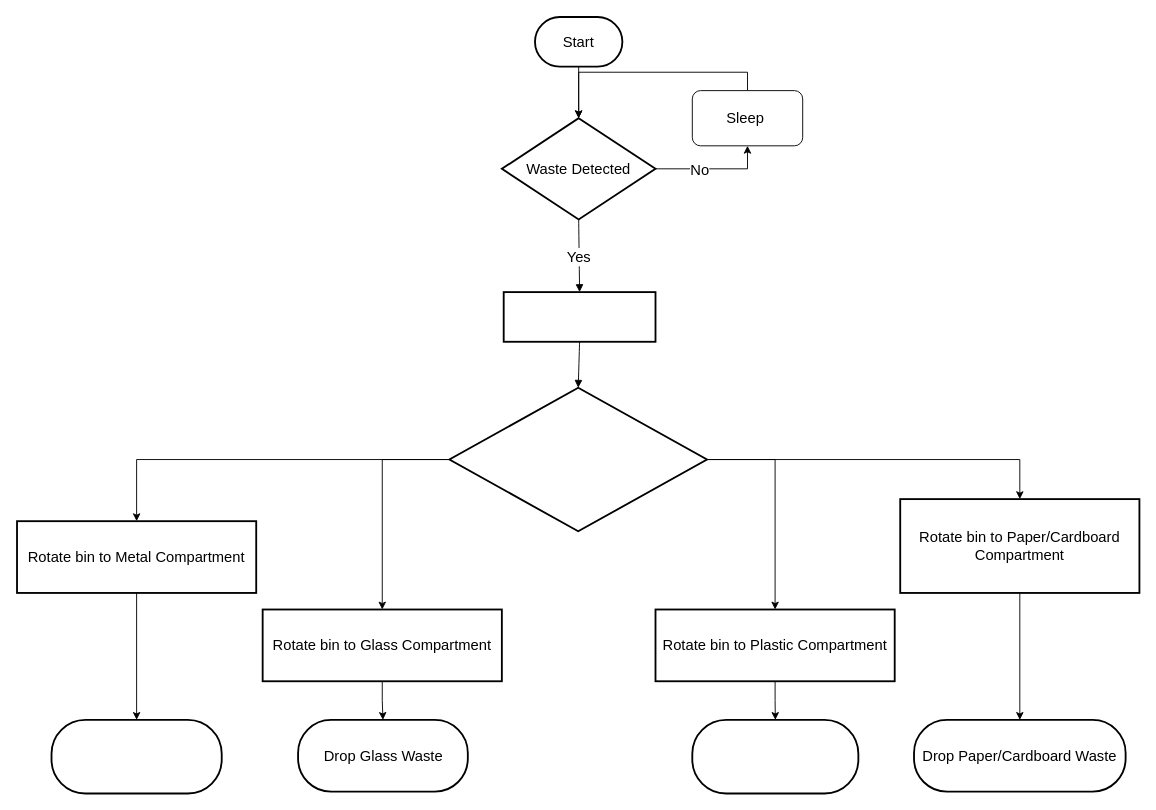
Image size: 1156x810. Some labels were removed from this diagram. The shapes that lost their labels are listed below. From the top down, each one's box as (x1, y1, x2, y2) in pixels, then its label:
(502, 291, 656, 342): Capture Image
(448, 386, 707, 532): Classify Waste
(50, 719, 222, 794): Drop Metal Waste
(691, 719, 859, 794): Drop Plastic Waste
